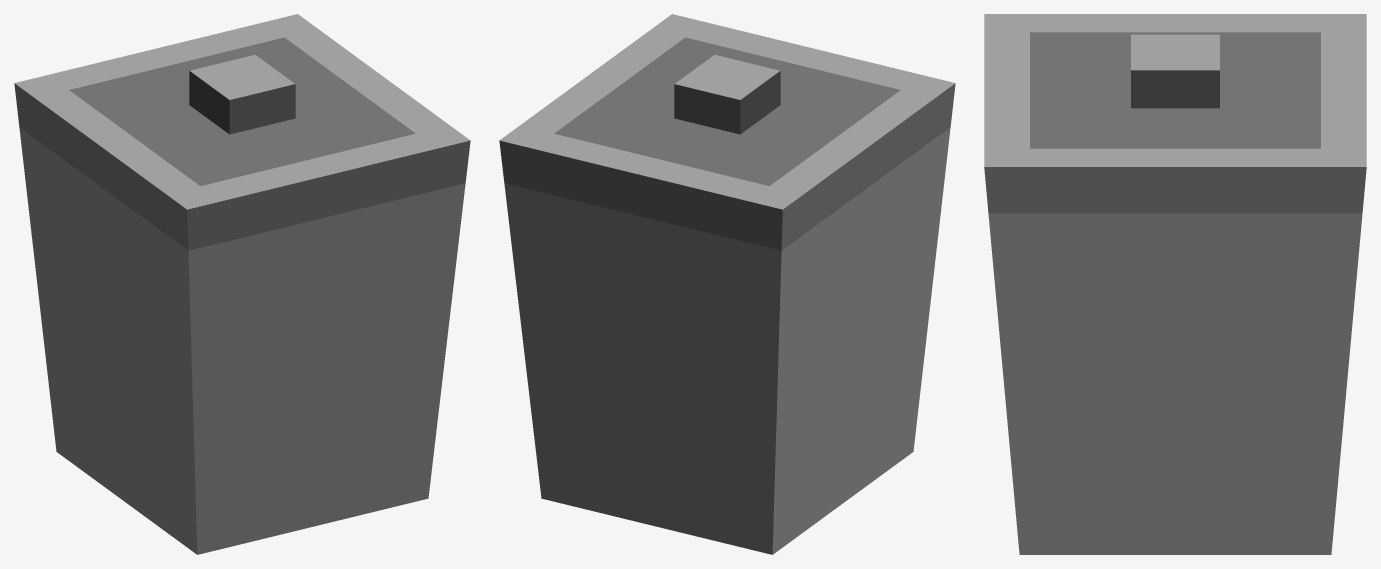
File: trash_mesh.fbx
The picture shows the model from 3 angles, left to right: view 1: azimuth 30°, elevation 25°; view 2: azimuth 150°, elevation 25°; view 3: azimuth 270°, elevation 25°; orthographic projection. The views are drawn at different scales.
Parts seen in each view (by area): view 1: trash_mesh; view 2: trash_mesh; view 3: trash_mesh.
Boxes of the visible parts, x1=… form: trash_mesh: x1=14, y1=14, x2=470, y2=554; trash_mesh: x1=499, y1=14, x2=955, y2=554; trash_mesh: x1=984, y1=14, x2=1366, y2=554.
Bounding box in the file's own units: 0.8973 × 1.2 × 0.9478.
